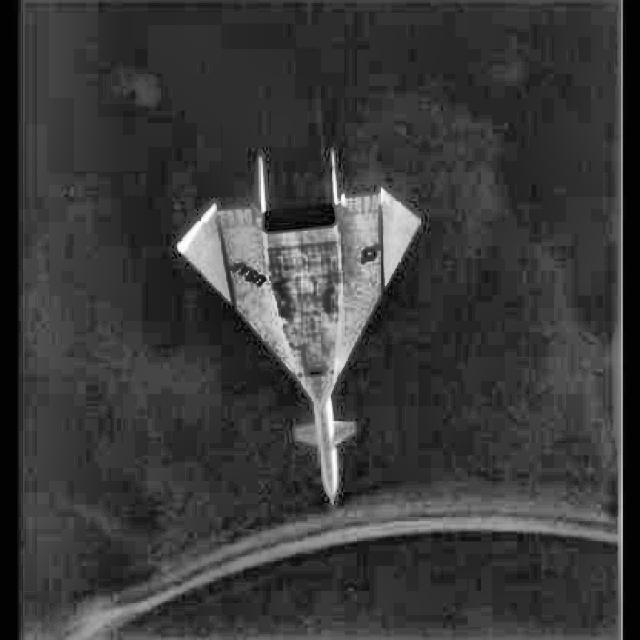XB70: (174, 148, 421, 509)
